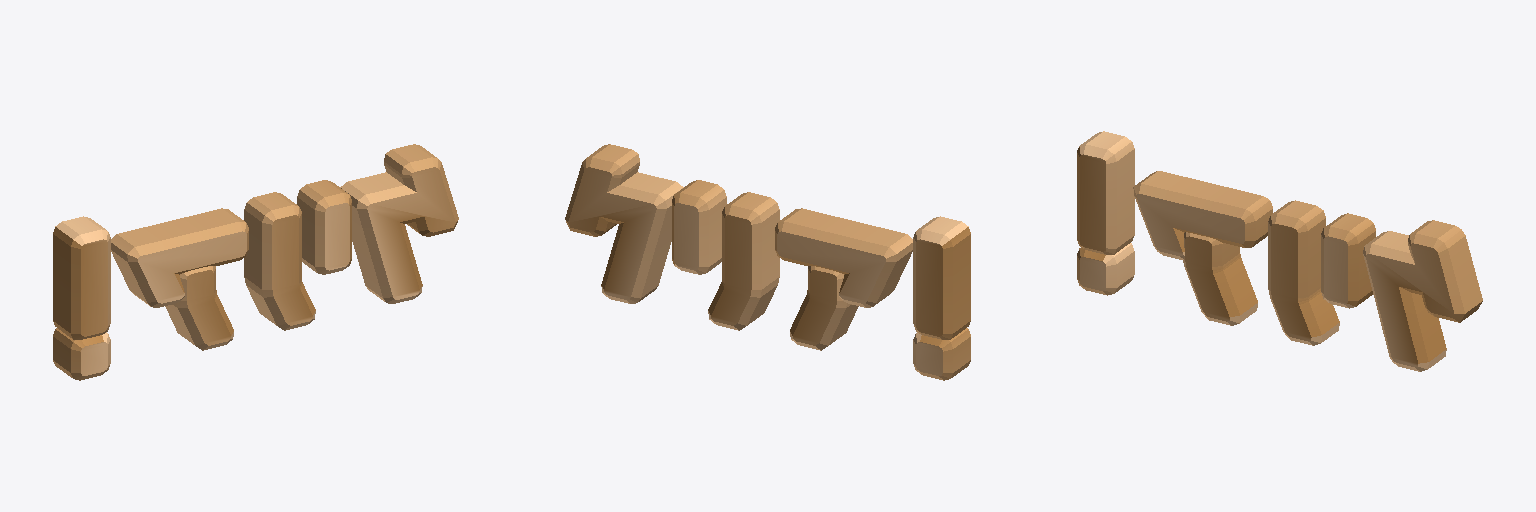
3 views of the same model, side by side, from view 1: azimuth 30°, elevation 25°; view 2: azimuth 150°, elevation 25°; view 3: azimuth 330°, elevation 25° (orthographic).
Parts seen in each view (by area): view 1: テキスト.005; view 2: テキスト.005; view 3: テキスト.005.
Part boxes in pixels (left/top/right/bottom): テキスト.005: left=53, top=144, right=458, bottom=380; テキスト.005: left=565, top=144, right=970, bottom=380; テキスト.005: left=1077, top=131, right=1482, bottom=371.
Size of the model in its own units: 3.62 by 1.3 by 0.4108.
1 materials, 1 textured.